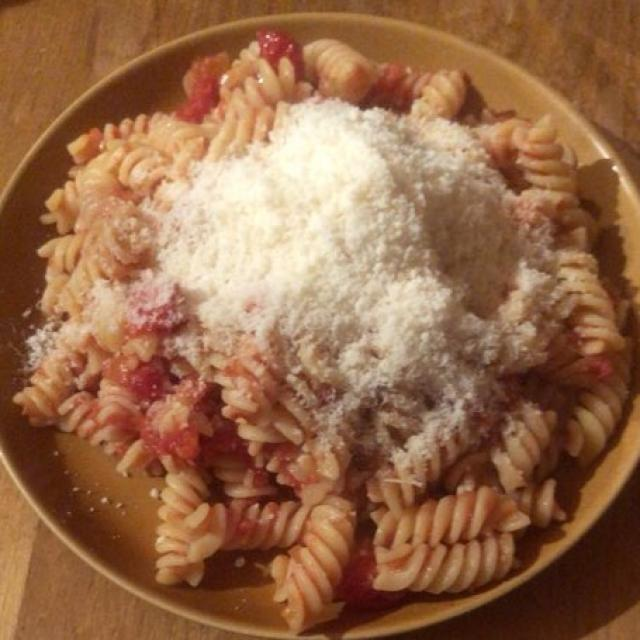cheese: (12, 26, 639, 634)
pasta: (23, 40, 614, 606)
tomato-sauce: (20, 38, 634, 626)
